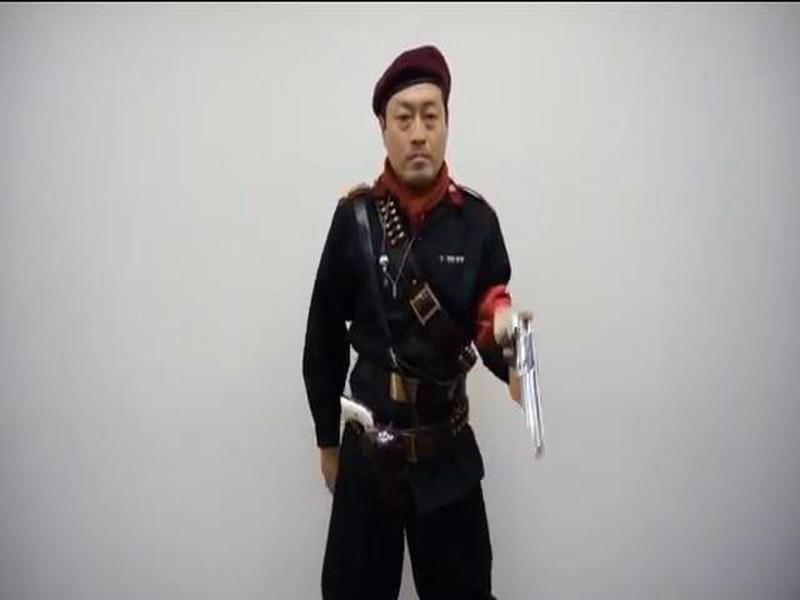Revolver: (482, 303, 567, 472)
